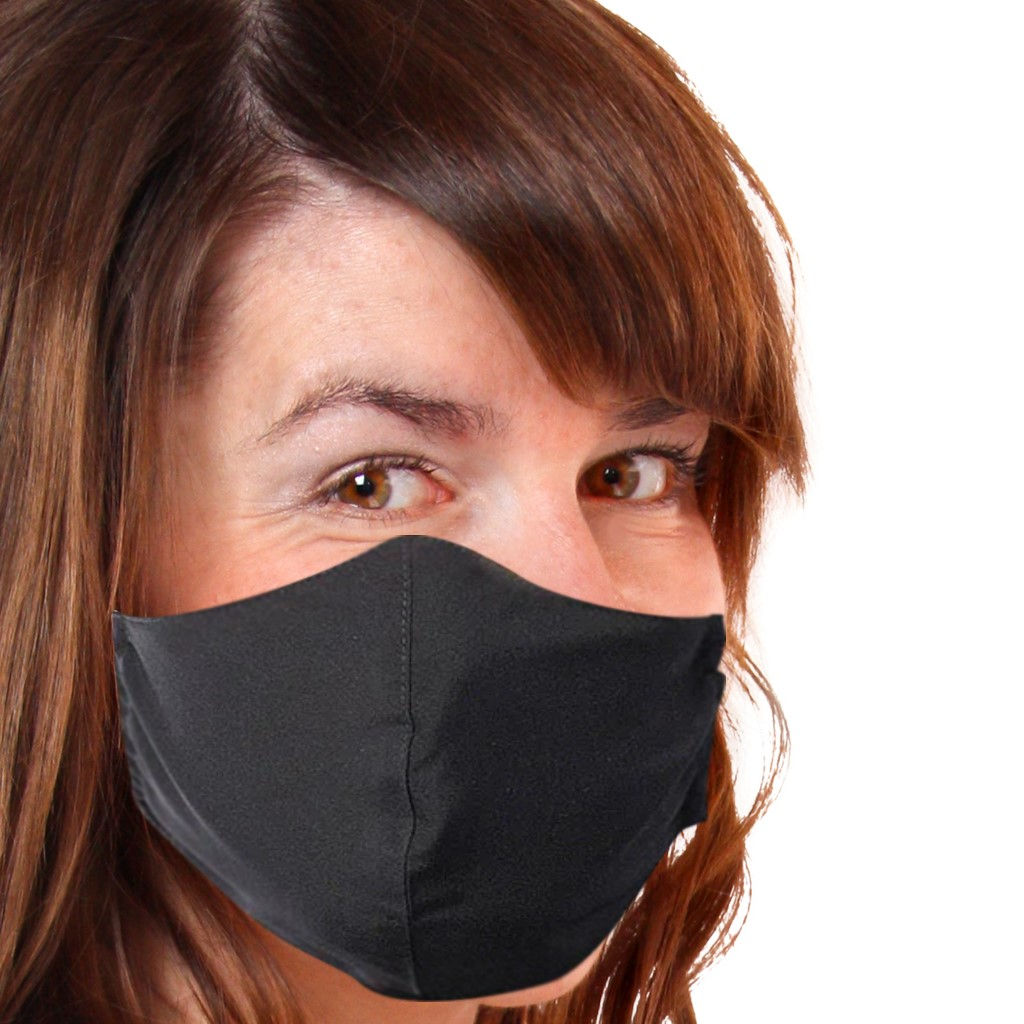con_mascara: (71, 41, 744, 993)
